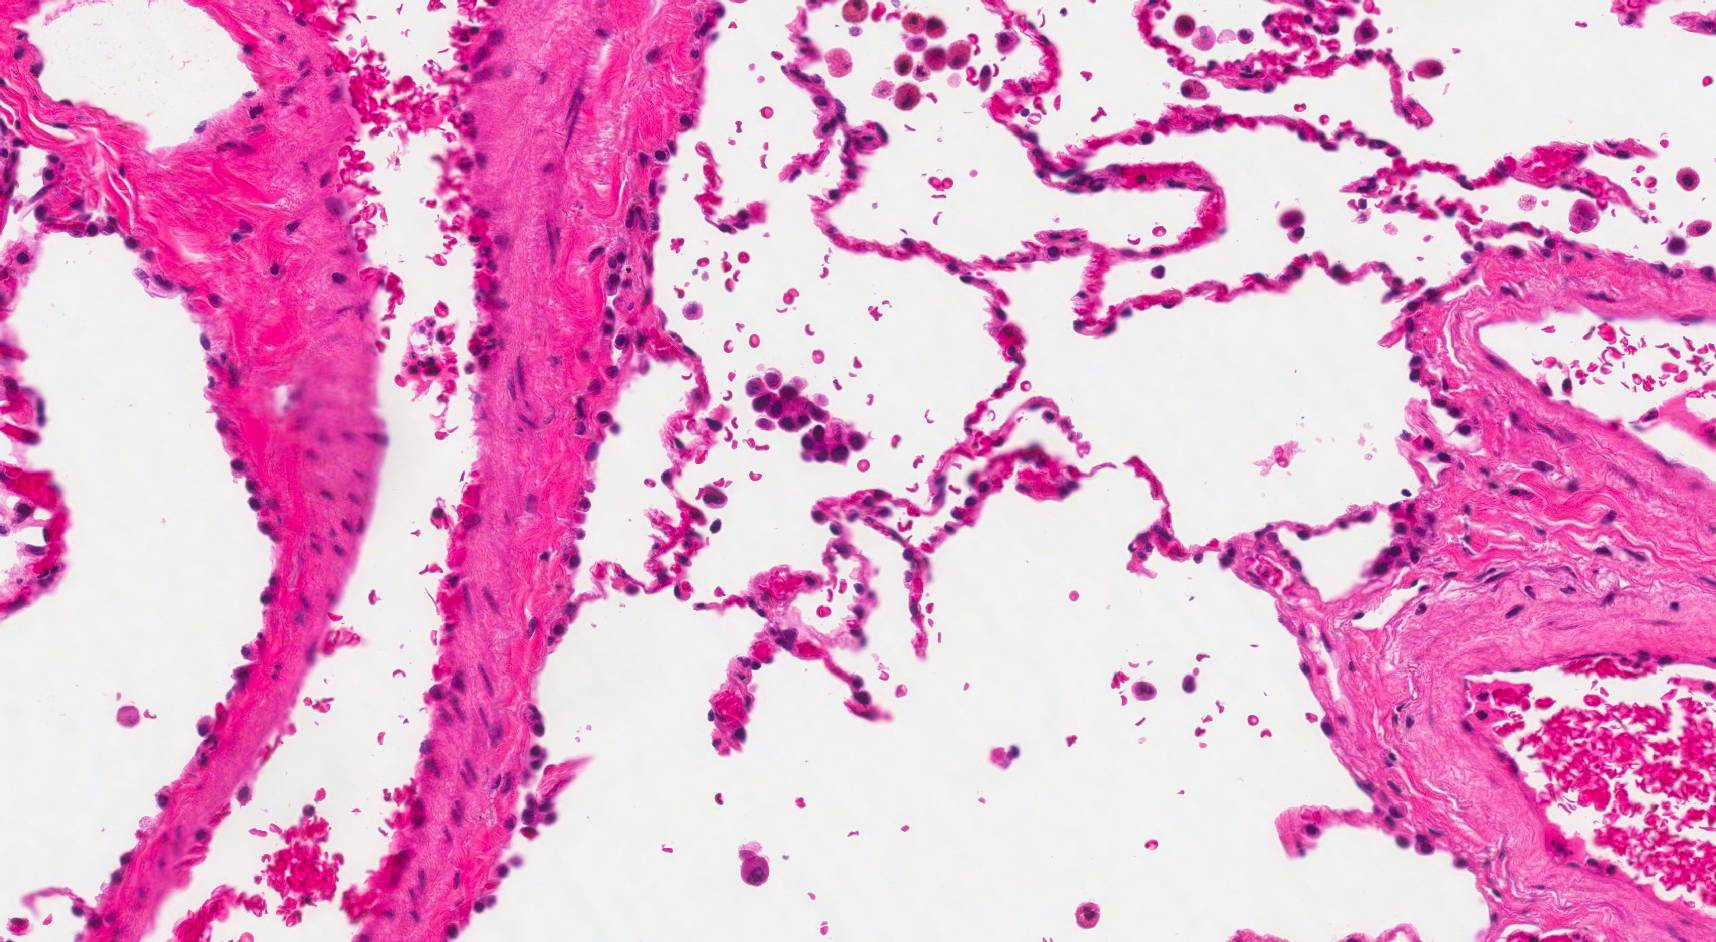stas: (743, 369, 873, 465)
